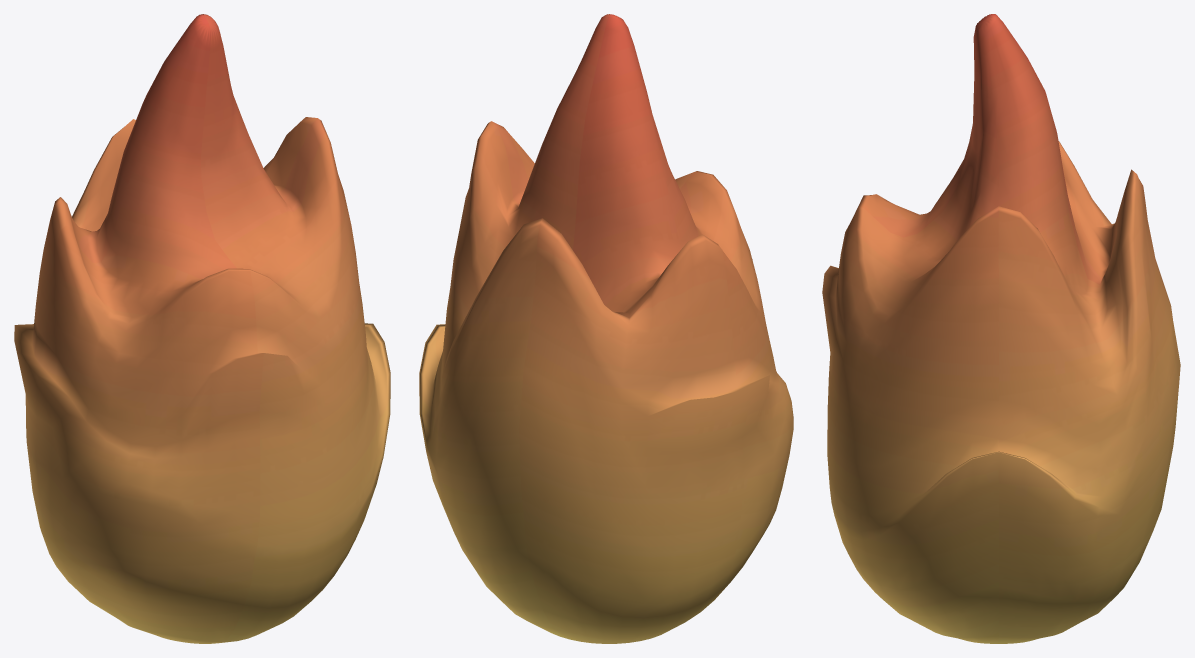
File: Bola_de_Fuego.fbx
3 views of the same model, side by side, from view 1: azimuth 30°, elevation 25°; view 2: azimuth 150°, elevation 25°; view 3: azimuth 270°, elevation 25° (orthographic).
Parts seen in each view (by area): view 1: Modelasdos_Proyecto2:pSphere1; view 2: Modelasdos_Proyecto2:pSphere1; view 3: Modelasdos_Proyecto2:pSphere1.
Part boxes in pixels (<box>): Modelasdos_Proyecto2:pSphere1: <box>14,14,390,643</box>; Modelasdos_Proyecto2:pSphere1: <box>419,14,793,643</box>; Modelasdos_Proyecto2:pSphere1: <box>822,14,1180,643</box>.
Bounding box in the file's own units: 2.23 × 3.91 × 2.06.
Materials: 1 (1 with a texture image).
